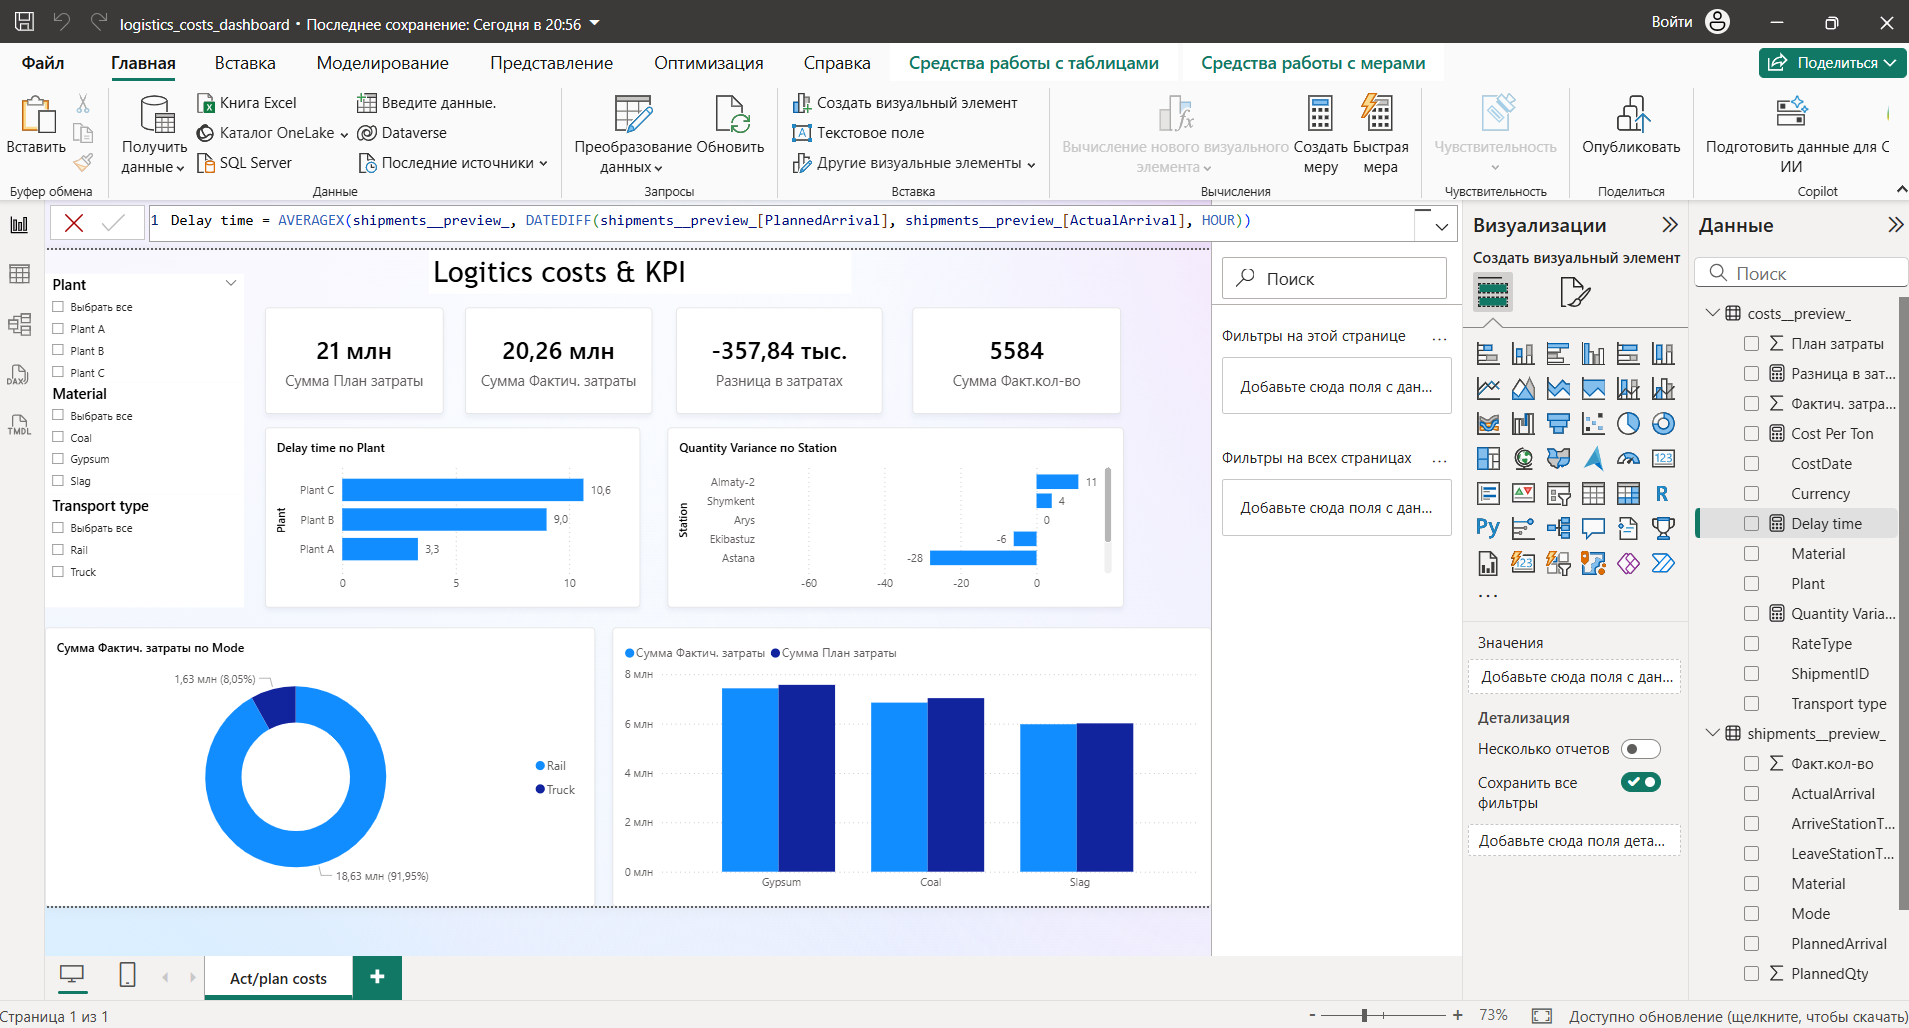

The page's visual inventory and layout, read from the dashboard file:
{"tool":"powerbi","page":{"name":"Act/plan costs","canvas":[1280,720],"ordinal":0},"visuals":[{"type":"clusteredColumnChart","fields":{"Category":["shipments__preview_.Material"],"Y":["Sum(costs__preview_.ActualCost)","Sum(costs__preview_.PlannedCost)"]},"box":[623,414.4,657.3,306],"z":0},{"type":"card","fields":{"Values":["Sum(costs__preview_.ActualCost)"]},"box":[461.1,63.1,205.8,116.6],"z":1},{"type":"card","fields":{"Values":["Sum(costs__preview_.PlannedCost)"]},"box":[241.5,63.1,196.2,116.6],"z":2},{"type":"card","fields":{"Values":["costs__preview_.Cost Variance"]},"box":[693,63.1,226.4,116.6],"z":3},{"type":"card","fields":{"Values":["Sum(shipments__preview_.ActualQty)"]},"box":[952.3,63.1,229.2,116.6],"z":4},{"type":"donutChart","fields":{"Category":["shipments__preview_.Mode"],"Y":["Sum(costs__preview_.ActualCost)"]},"box":[0,414.4,603.8,306],"z":5},{"type":"slicer","fields":{"Values":["costs__preview_.Plant"]},"box":[0,26.1,218.2,119.4],"z":6},{"type":"slicer","fields":{"Values":["costs__preview_.Material"]},"box":[0,145.5,218.2,123.5],"z":7},{"type":"slicer","fields":{"Values":["costs__preview_.Mode"]},"box":[0,269,218.2,123.5],"z":8},{"type":"barChart","fields":{"Category":["shipments__preview_.Plant"],"Y":["costs__preview_.Arrival Delay (Hours)"]},"box":[241.5,194.9,411.7,197.6],"z":9},{"type":"clusteredBarChart","fields":{"Category":["shipments__preview_.Station"],"Y":["costs__preview_.Quantity Variance"]},"box":[683.4,194.9,500.9,197.6],"z":10},{"type":"textbox","box":[421.3,0,463.8,48],"z":11}]}

Visuals, with their boxes on the page's 1280x720 design canvas (x1, y1, x2, y2). These are canvas units, not pixel positions in the 1909x1028 screenshot, which may show the page scaled, cropped or inside an application window:
clusteredColumnChart - shipments__preview_.Material x Sum(costs__preview_.ActualCost): (623,414,1280,720)
card - Sum(costs__preview_.ActualCost): (461,63,667,180)
card - Sum(costs__preview_.PlannedCost): (242,63,438,180)
card - costs__preview_.Cost Variance: (693,63,919,180)
card - Sum(shipments__preview_.ActualQty): (952,63,1182,180)
donutChart - shipments__preview_.Mode x Sum(costs__preview_.ActualCost): (0,414,604,720)
slicer - costs__preview_.Plant: (0,26,218,146)
slicer - costs__preview_.Material: (0,146,218,269)
slicer - costs__preview_.Mode: (0,269,218,392)
barChart - shipments__preview_.Plant x costs__preview_.Arrival Delay (Hours): (242,195,653,392)
clusteredBarChart - shipments__preview_.Station x costs__preview_.Quantity Variance: (683,195,1184,392)
textbox: (421,0,885,48)
